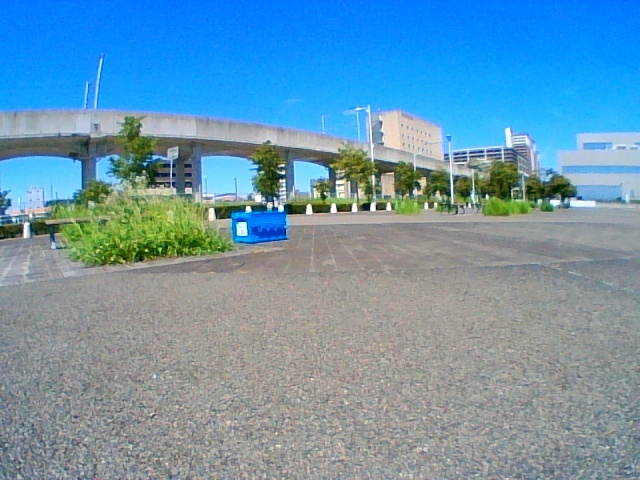blue_box: (232, 212, 287, 243)
tag: (237, 221, 246, 235)
